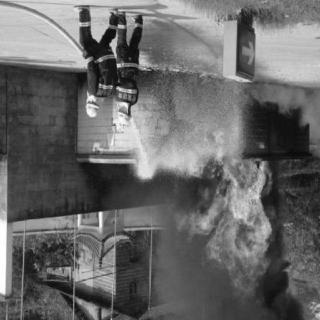Fire: (159, 149, 283, 297)
other: (216, 15, 259, 93), (114, 109, 138, 133), (85, 98, 101, 124)
